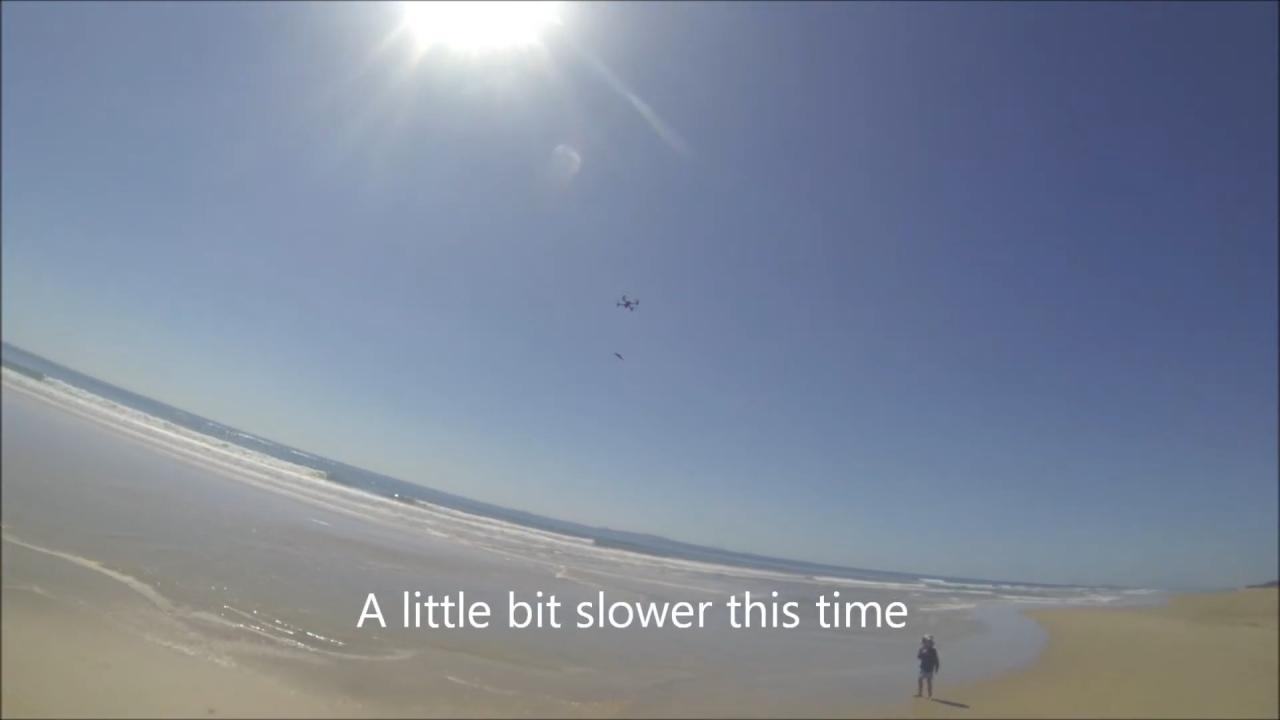Drone: (609, 289, 646, 321)
